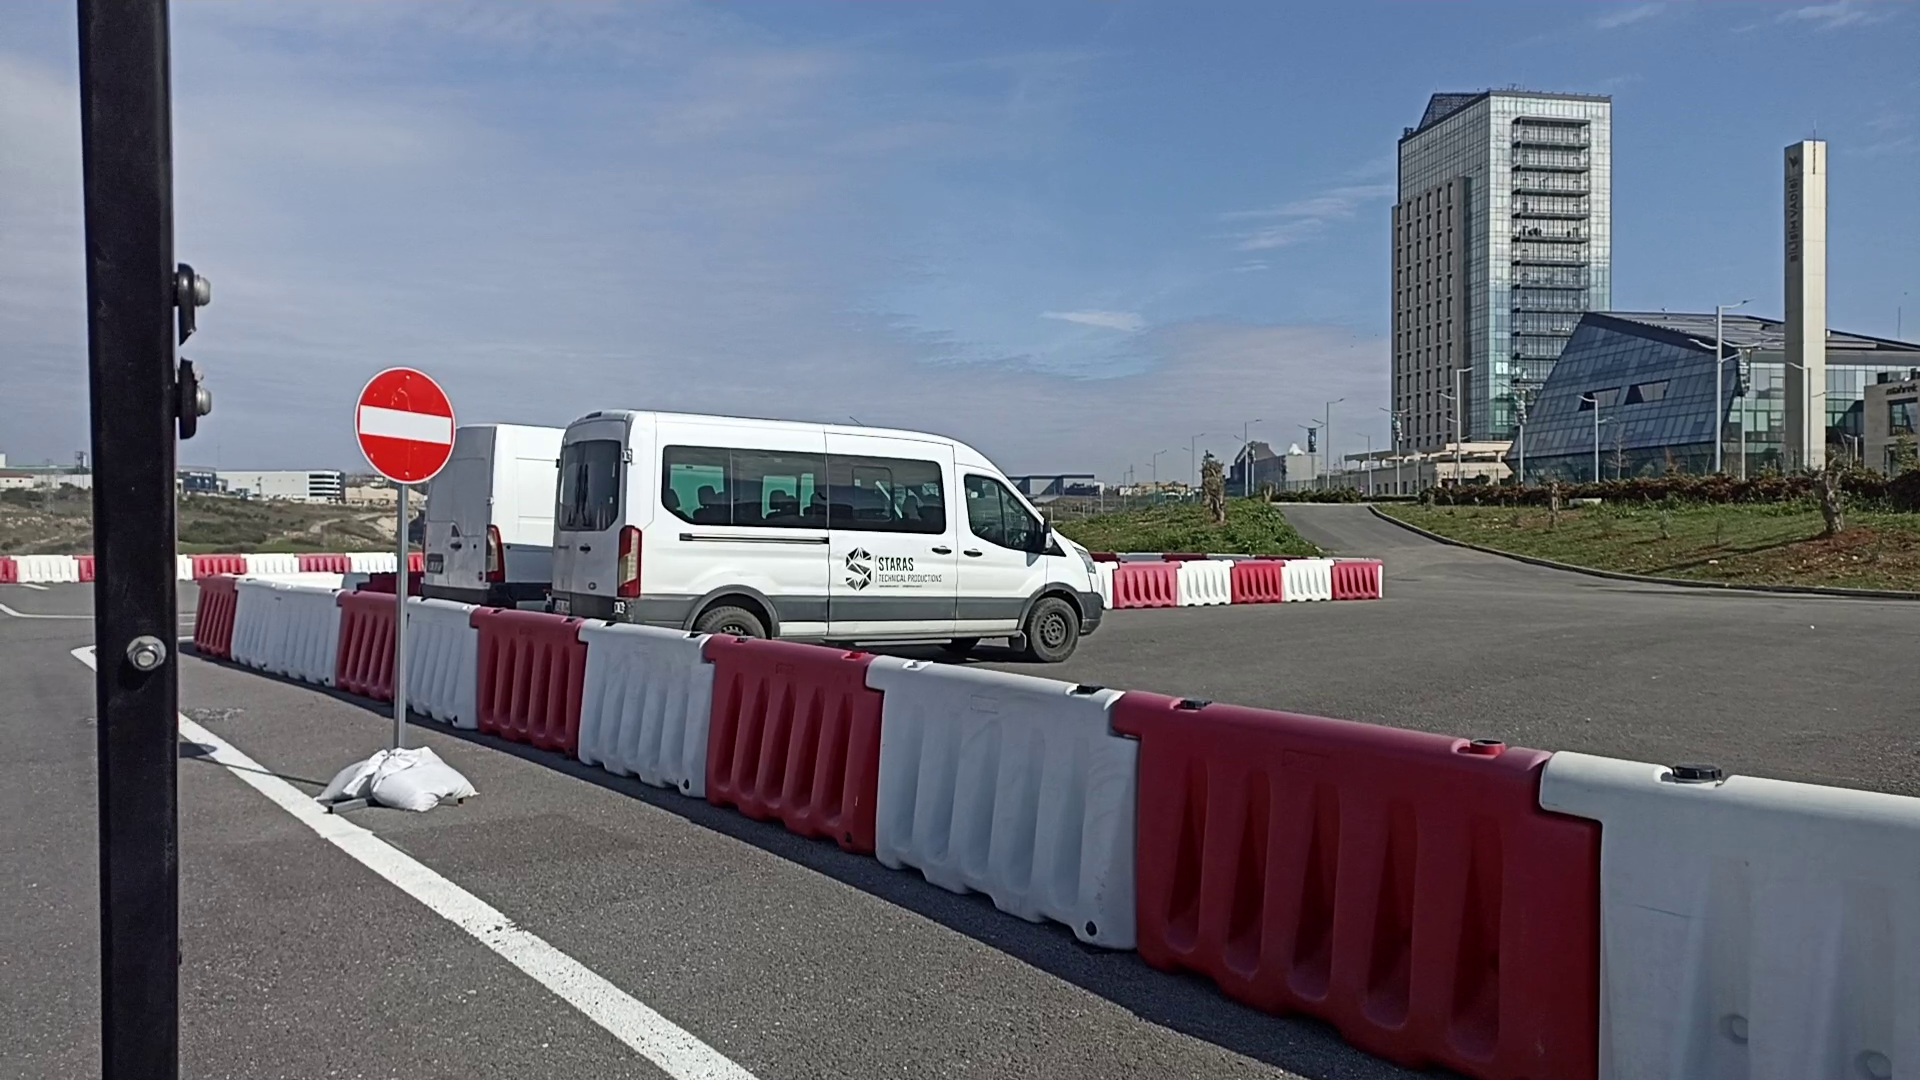noentryway: (352, 365, 458, 485)
